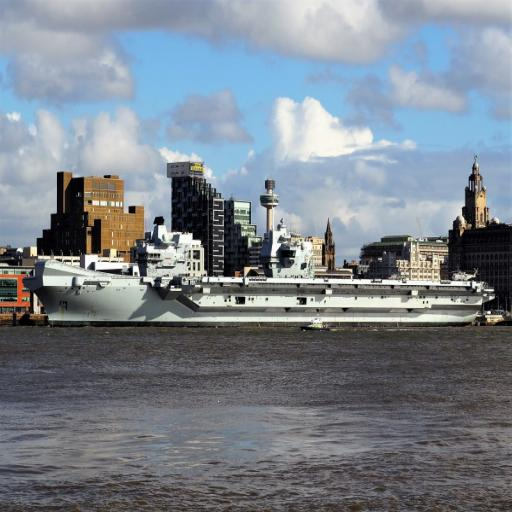Portanaves: (24, 216, 500, 334)
